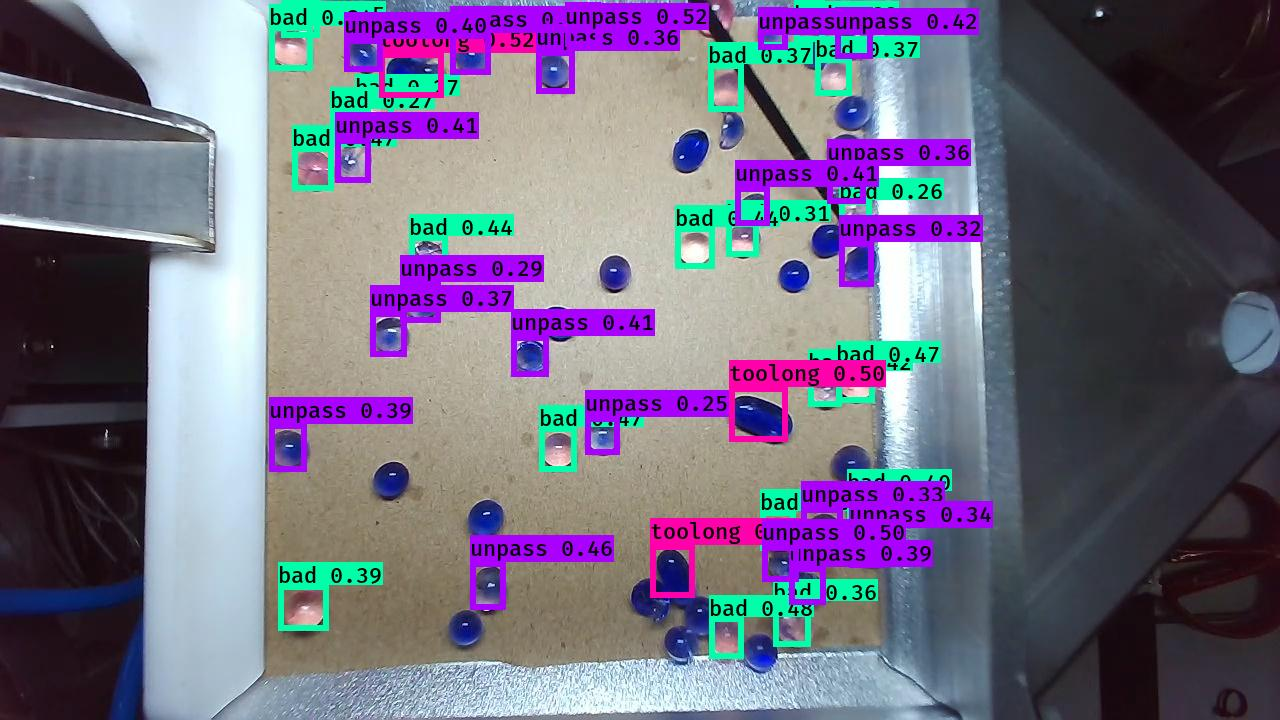bad: (769, 600, 816, 647), (282, 586, 327, 634), (291, 148, 338, 192), (272, 29, 313, 70), (706, 617, 747, 658), (690, 1, 735, 38), (540, 427, 576, 469), (807, 374, 846, 412), (355, 94, 392, 134), (677, 231, 714, 269), (817, 57, 851, 98), (279, 1, 320, 35), (409, 239, 451, 272), (845, 497, 884, 532), (710, 72, 745, 110), (839, 368, 875, 404), (843, 196, 878, 233), (727, 222, 761, 259), (797, 1, 828, 41), (329, 118, 365, 152), (764, 516, 798, 549)
defact: (717, 112, 743, 151)
pass: (626, 574, 672, 627), (668, 128, 712, 176), (465, 498, 508, 542), (830, 441, 870, 488), (370, 460, 410, 504), (682, 594, 720, 636), (742, 633, 780, 675), (845, 241, 880, 286), (596, 253, 634, 294), (449, 607, 484, 651), (833, 92, 872, 130), (540, 302, 578, 340), (776, 257, 813, 296), (823, 132, 862, 169), (536, 23, 573, 59), (810, 224, 847, 260), (662, 625, 698, 662), (799, 33, 832, 71)
toolong: (728, 390, 795, 449), (654, 542, 695, 602), (385, 54, 445, 93)
unpass: (832, 3, 874, 59), (267, 428, 313, 473), (468, 564, 506, 614), (370, 316, 410, 358), (582, 417, 621, 457), (401, 27, 440, 65), (805, 512, 842, 552), (537, 52, 574, 92), (401, 284, 439, 322), (344, 38, 381, 77), (734, 188, 771, 227), (336, 141, 373, 180), (852, 530, 889, 569), (755, 10, 790, 51), (513, 338, 548, 378), (565, 4, 600, 43), (454, 38, 490, 74), (830, 170, 865, 205), (793, 568, 827, 604), (766, 549, 800, 583)
